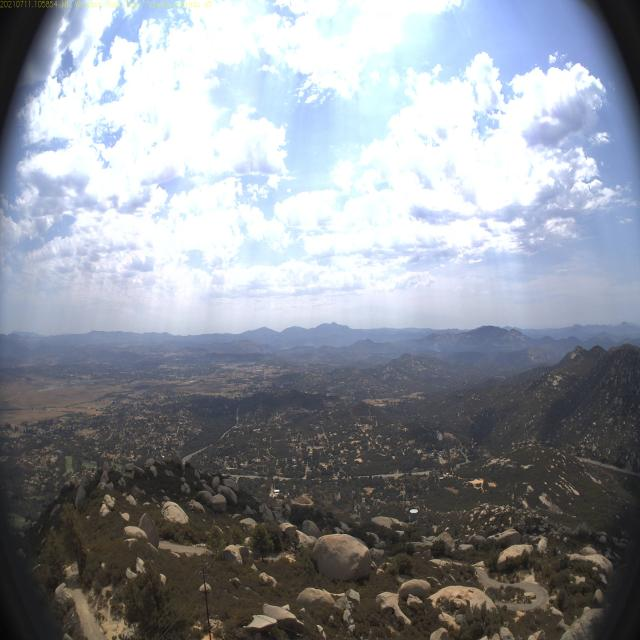smoke: (419, 339, 441, 353)
